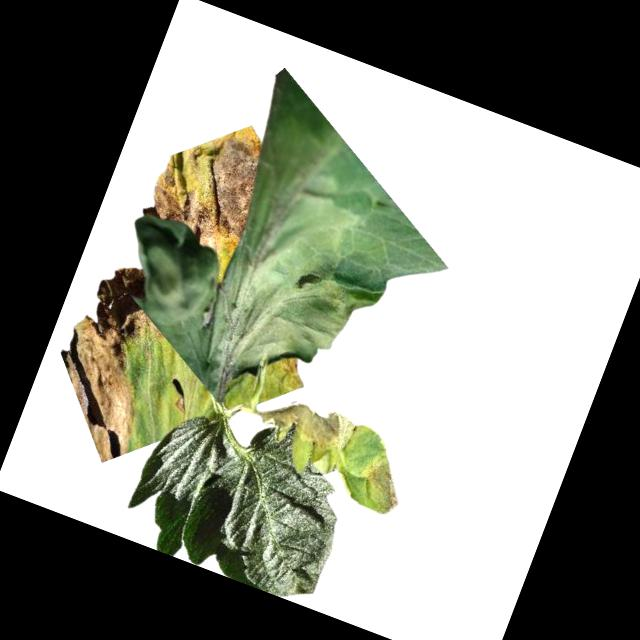healthy: (179, 123, 404, 430), (116, 389, 364, 608), (24, 250, 193, 472), (135, 99, 274, 256), (92, 207, 232, 362), (253, 387, 359, 467), (351, 450, 414, 520), (264, 348, 314, 398)
